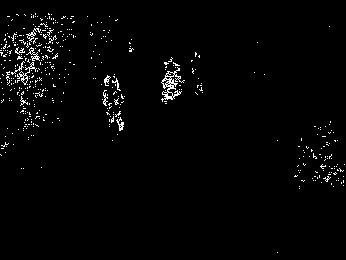person: (90, 69, 127, 138)
